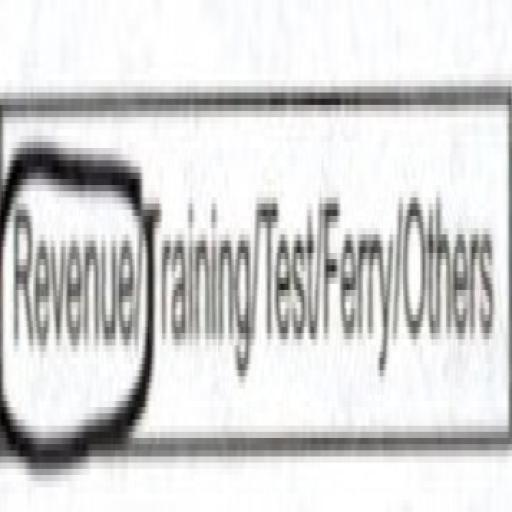check: (0, 25, 145, 506)
